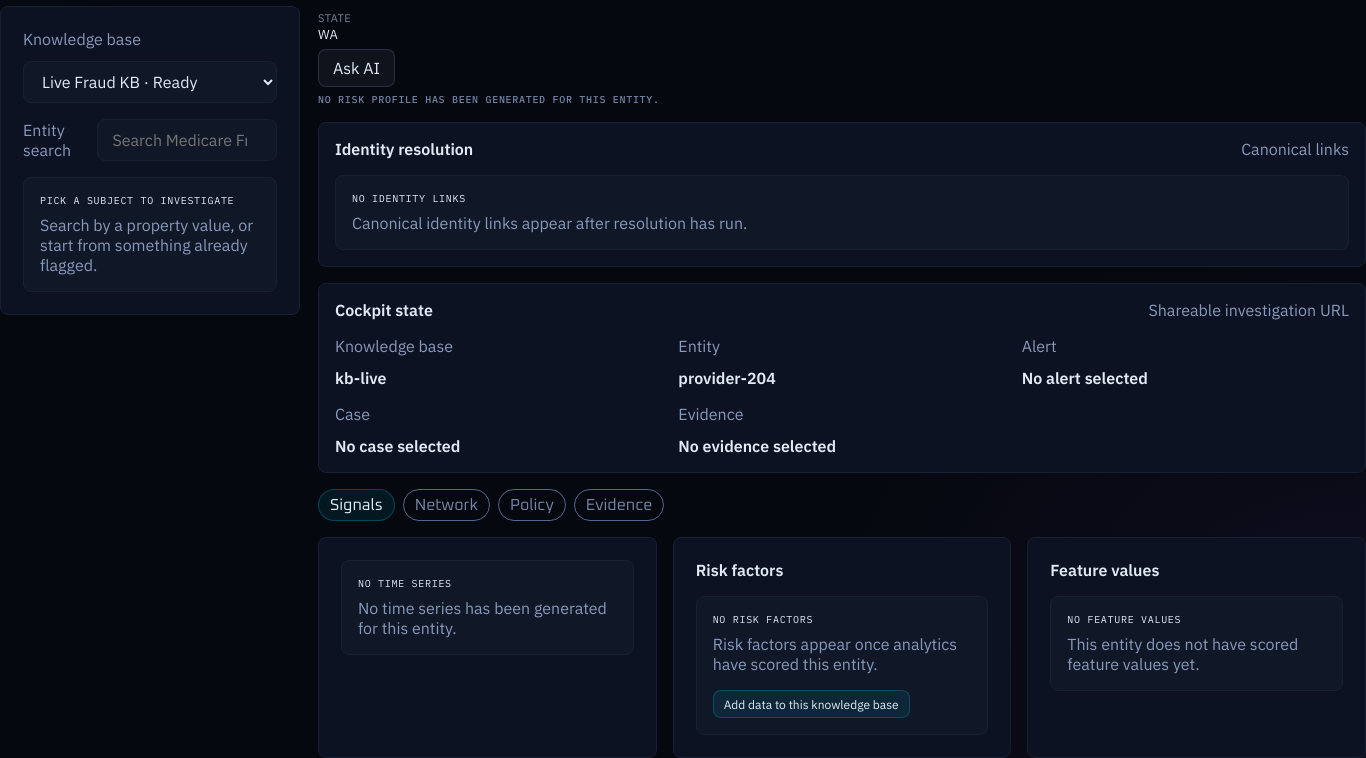
Test: InvestigationWorkbenchPage › reveals the graph neighborhood canvas under the Network tab
(page scrolled)
Click the tab "Network" at (446, 505), box [403,489,490,521]
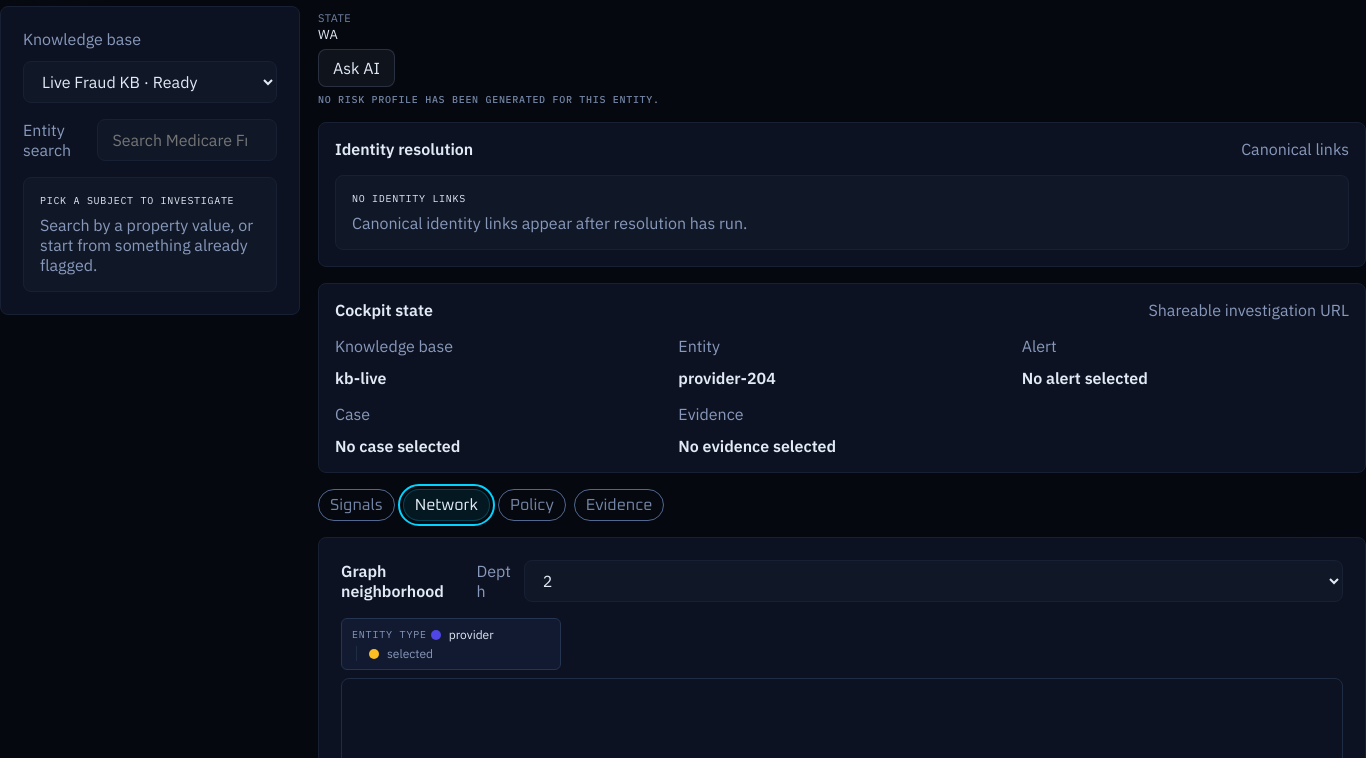
Now the dropdown labelled "Depth" is shown, box [524,560,1343,602]
